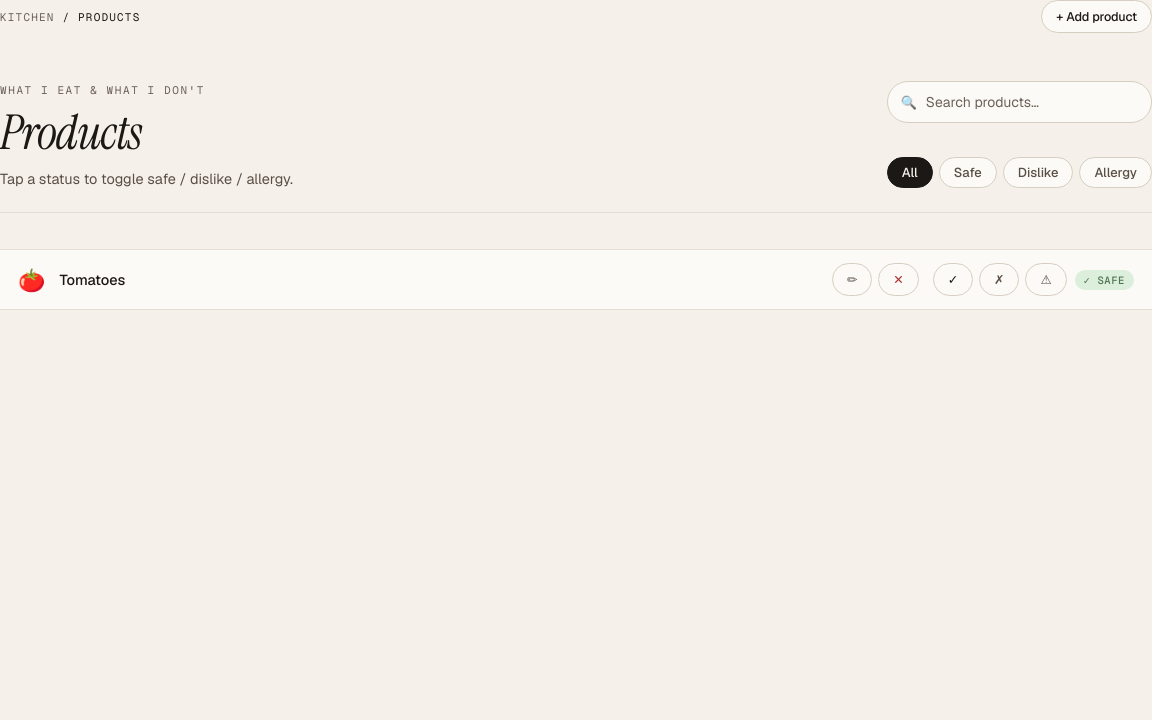
Scenario: ProductsScreen – delete product confirmation modal › shows a confirmation modal when the delete button is clicked
Click the button titled "Delete" at coordinates (898, 280), box [878,263,919,296]
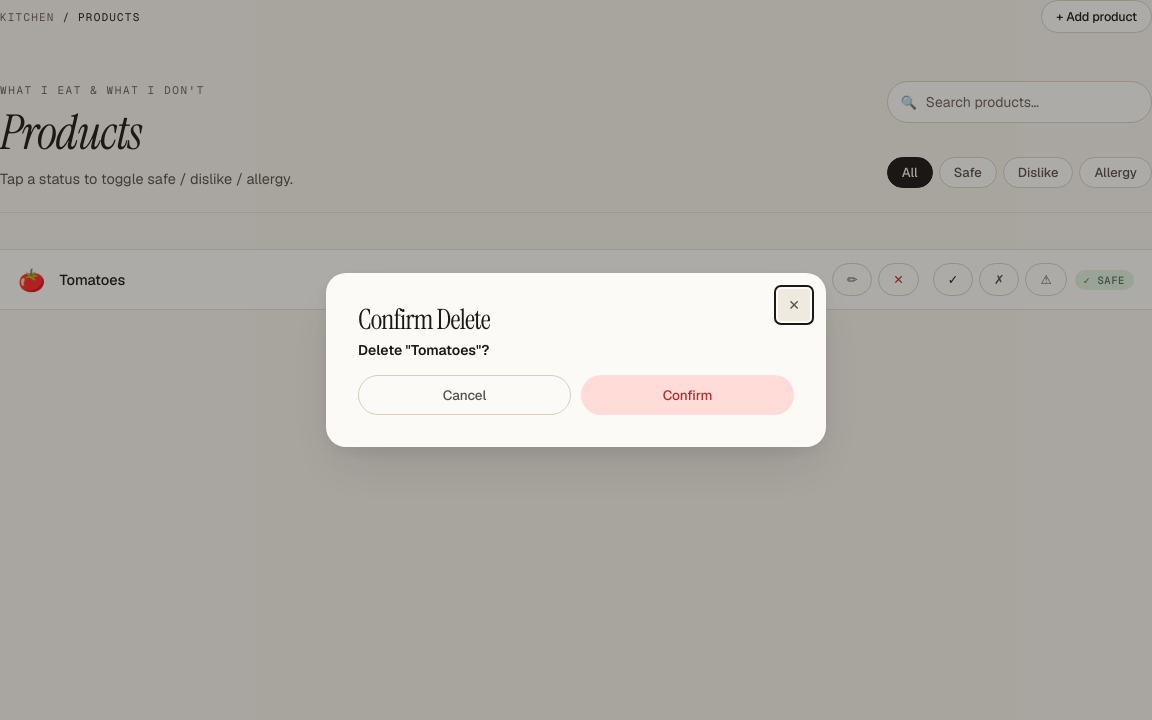
Check: the text "Confirm Delete" is shown, box [358,301,490,338]
Check: the button "Confirm" is shown, box [581,375,794,415]
Check: the button "Cancel" is shown, box [358,375,571,415]
